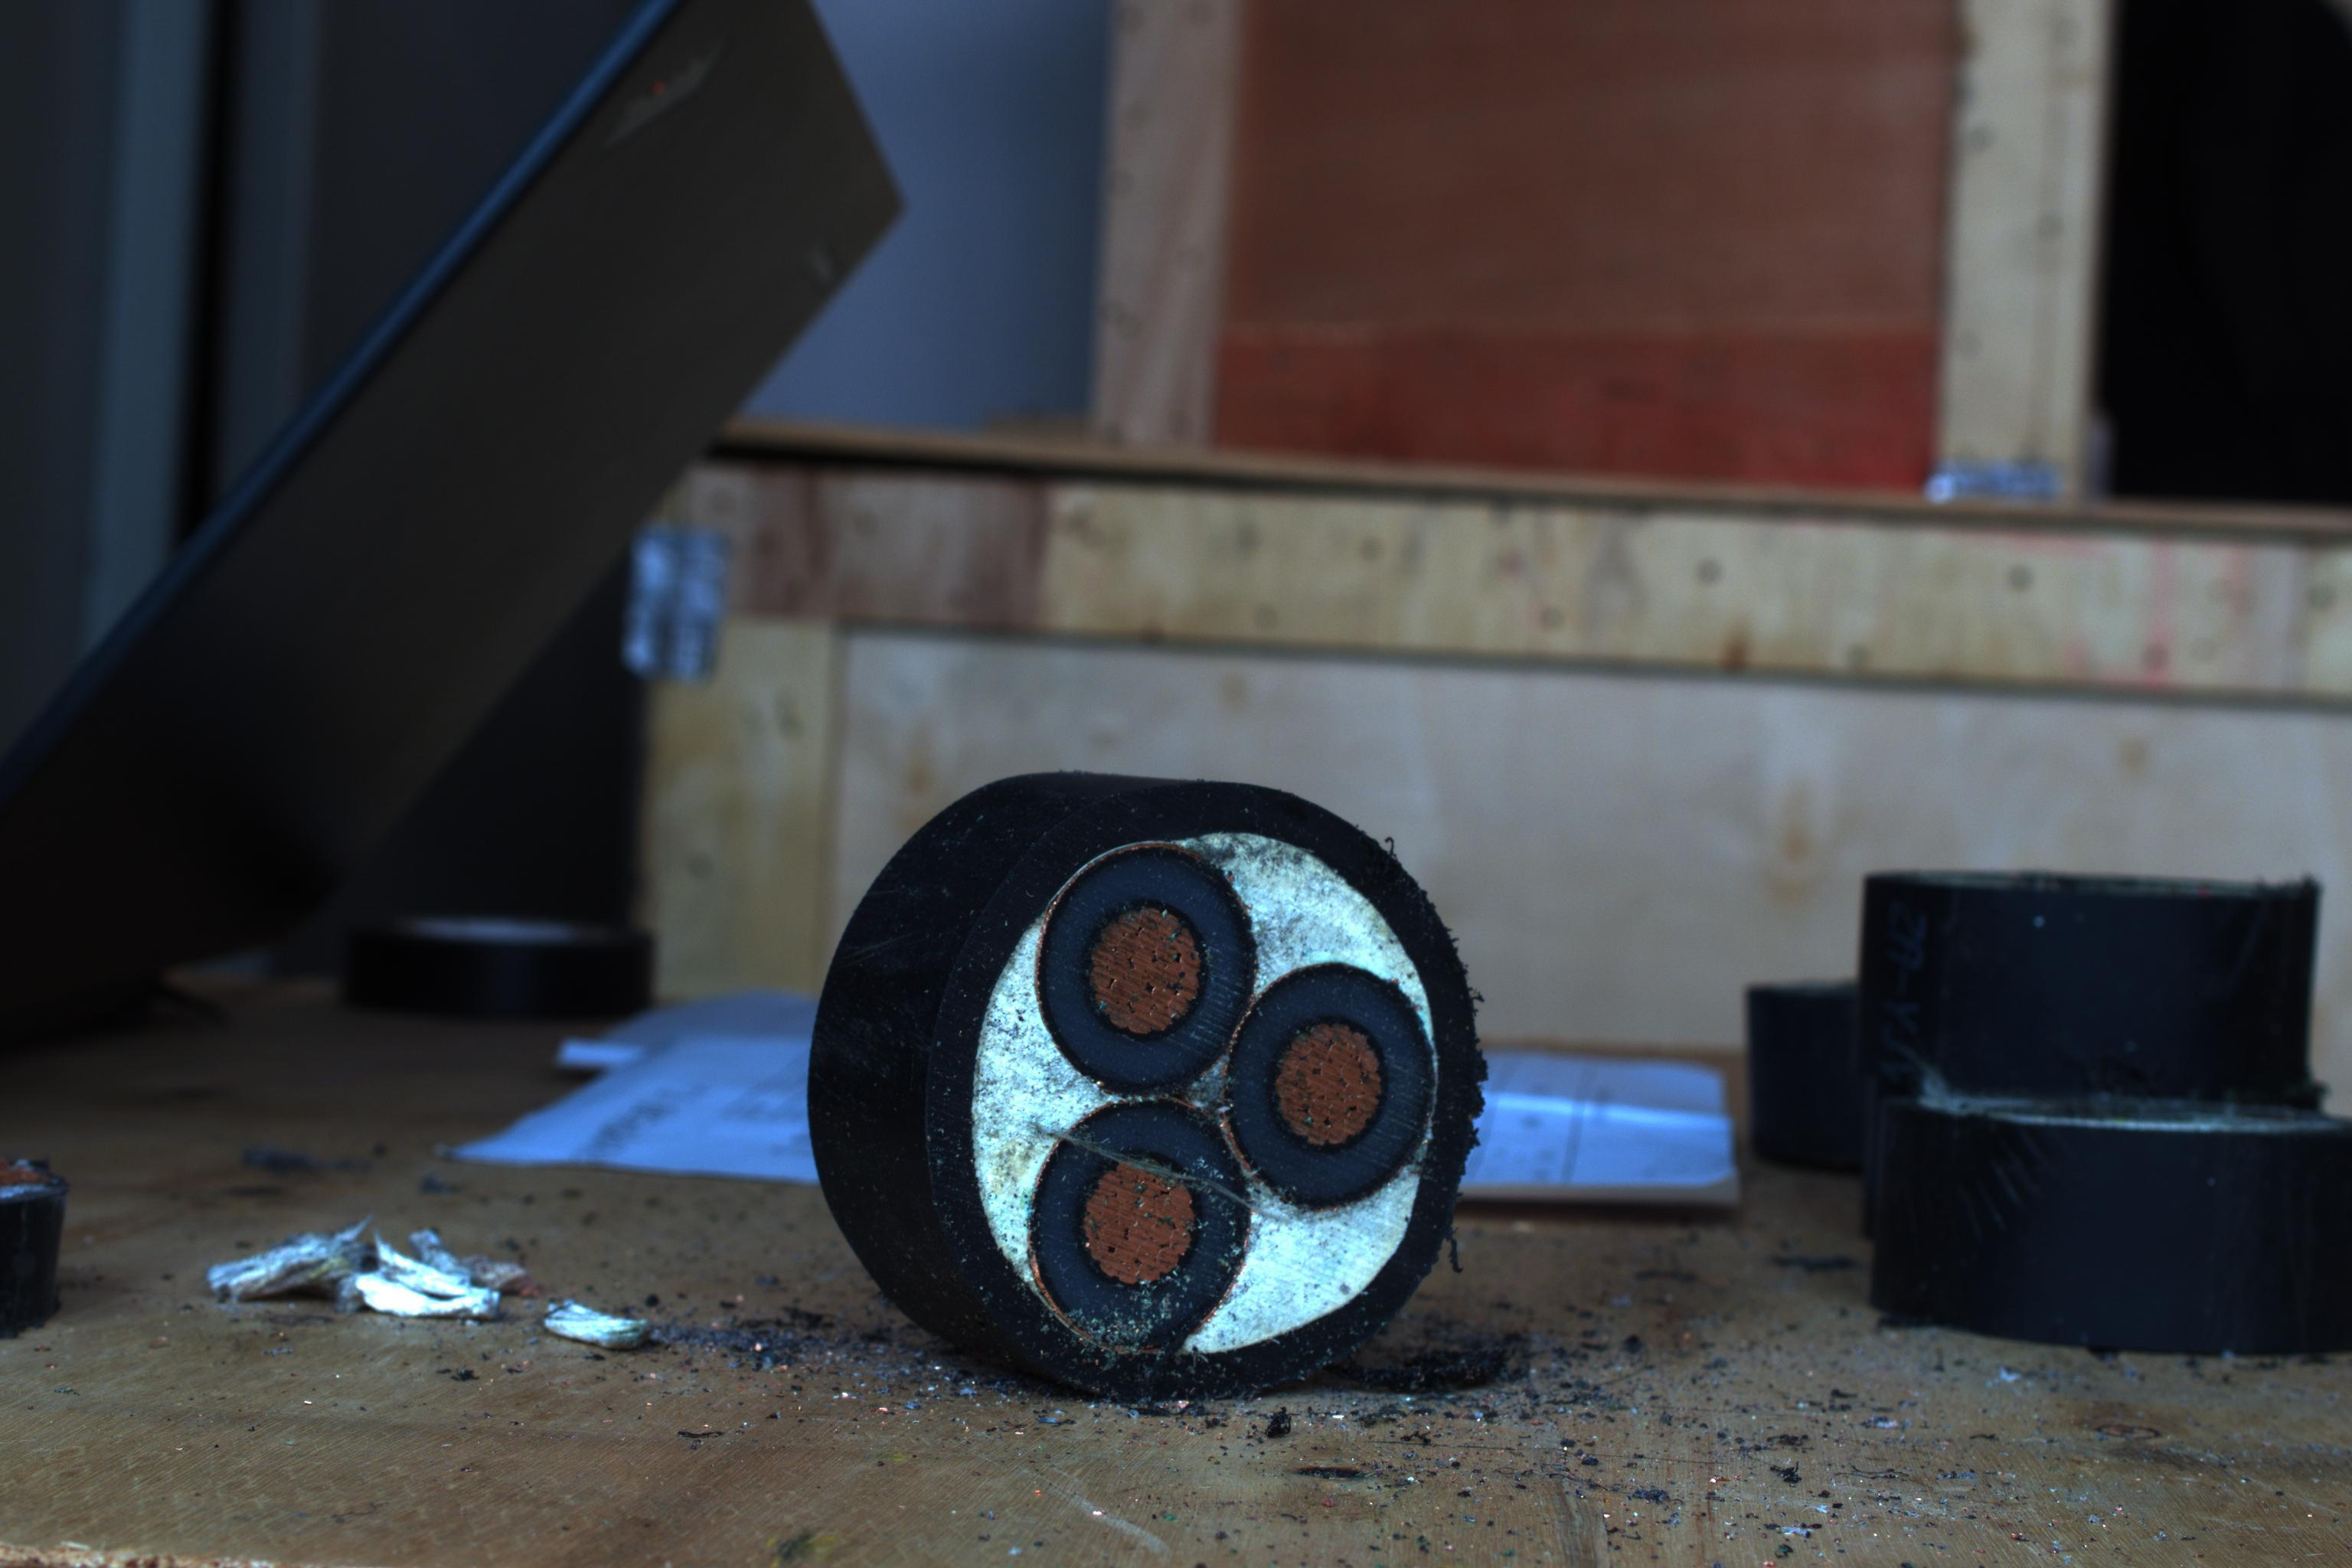ZA_YJV_8.7_10kV_3x120: (941, 815, 1498, 1370)
